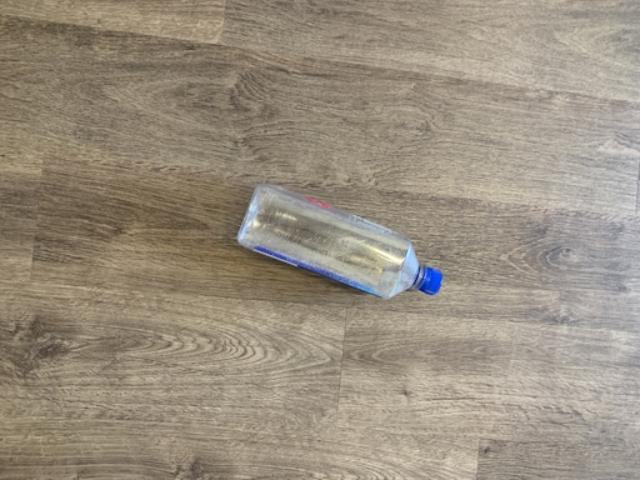plastic: (236, 182, 440, 296)
